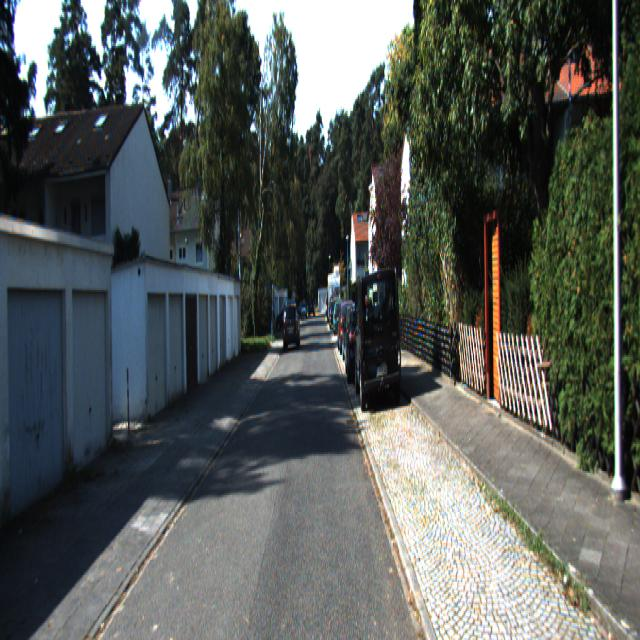Car: (351, 261, 400, 408), (282, 300, 300, 348)
